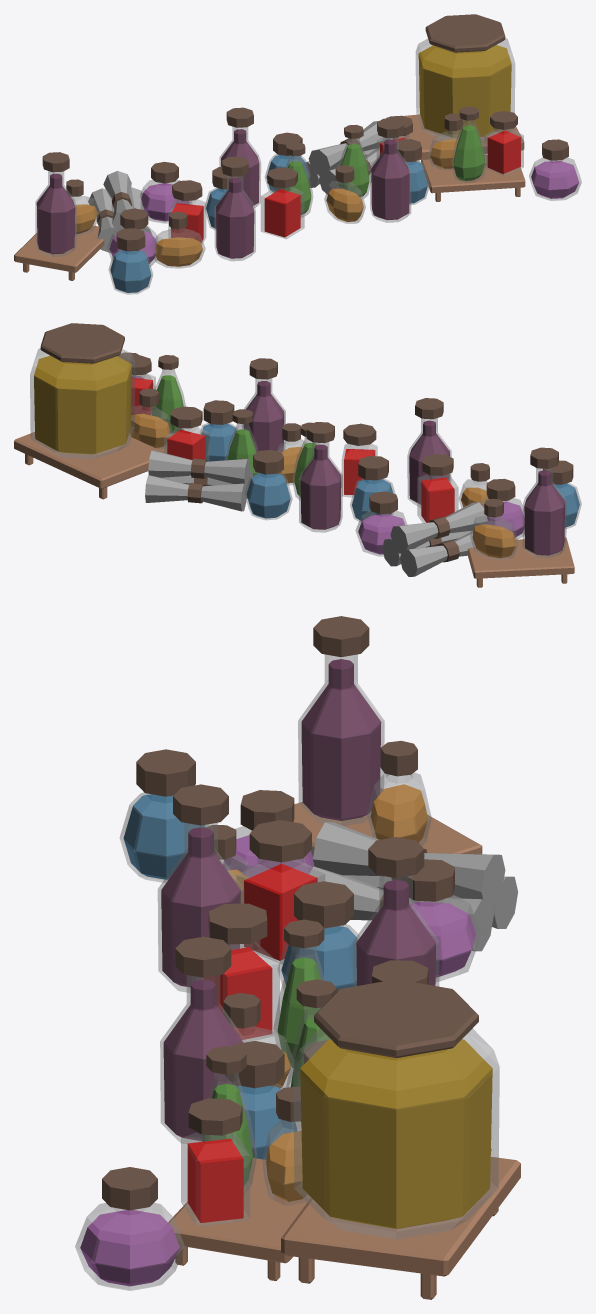
File: Potions.fbx
3 renders of one model, top to bottom at view 1: azimuth 30°, elevation 25°; view 2: azimuth 150°, elevation 25°; view 3: azimuth 270°, elevation 25°, orthographic. The views are drawn at different scales.
Visible parts, largest first — view 1: Potions; view 2: Potions; view 3: Potions.
Part boxes in pixels (box(x1,y1,x2,y2)): Potions: box(14, 14, 581, 294); Potions: box(14, 323, 581, 587); Potions: box(75, 616, 520, 1299).
Bounding box in the file's own units: 464 × 110 × 176.
